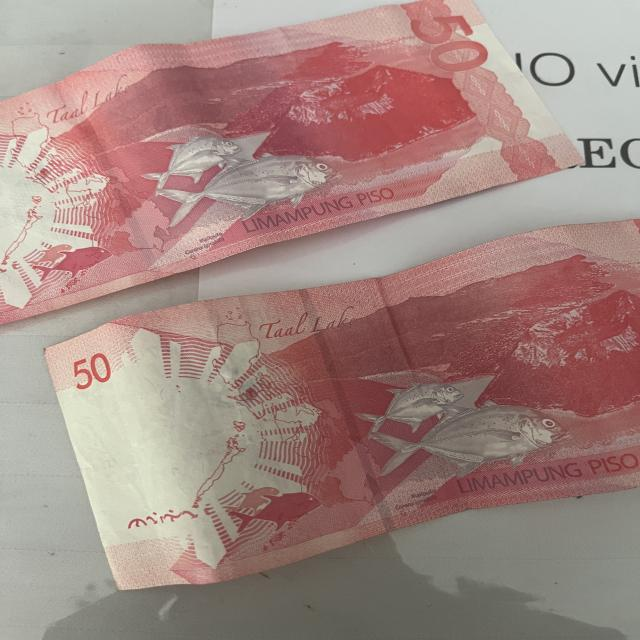50_maliputo: (357, 366, 574, 482), (129, 128, 342, 220)
50_maliputo_watermark: (206, 482, 326, 540), (19, 236, 115, 282)
